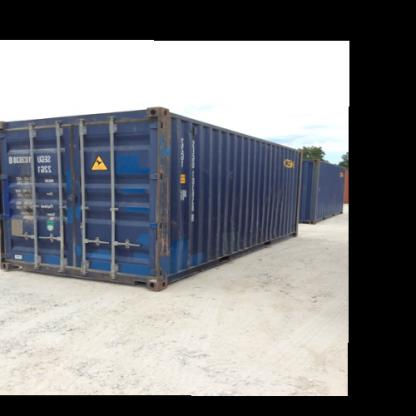Damage: (152, 115, 174, 257), (271, 185, 298, 209), (184, 240, 208, 266), (219, 162, 244, 184), (244, 224, 279, 238)
